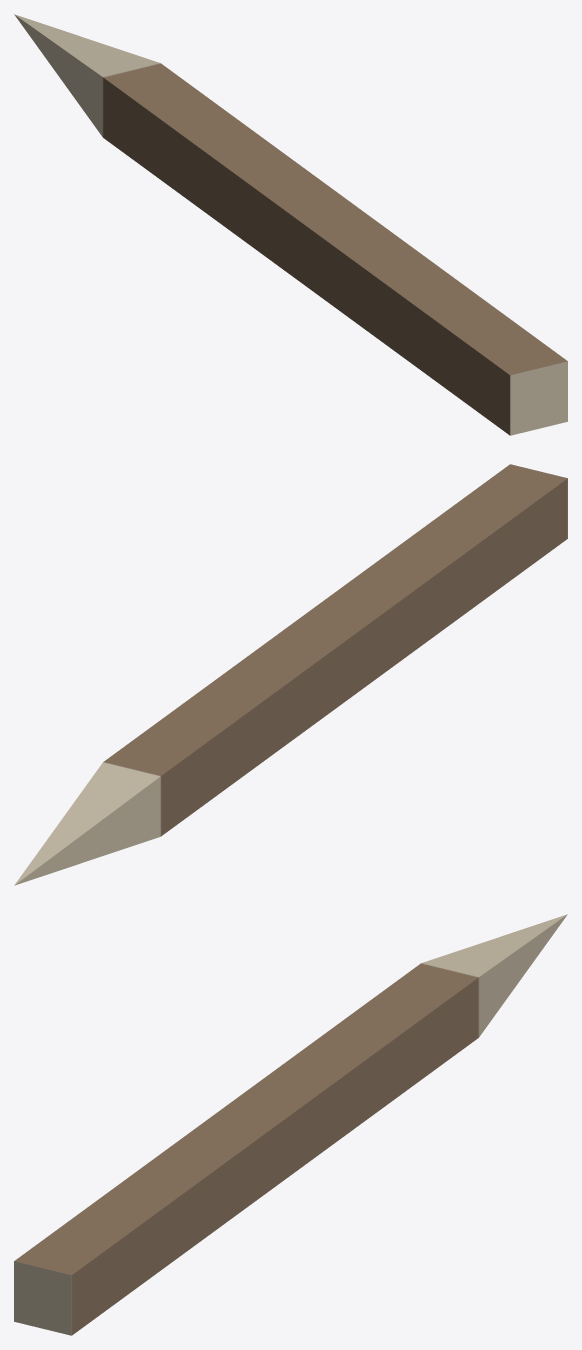
The model's file is javelin(regular).fbx.
The picture shows the model from 3 angles, top to bottom: view 1: azimuth 30°, elevation 25°; view 2: azimuth 150°, elevation 25°; view 3: azimuth 330°, elevation 25°; orthographic projection.
Visible parts, largest first — view 1: javelin; view 2: javelin; view 3: javelin.
Boxes of the visible parts, x1,y1,x2,y2 form: javelin: [14, 14, 567, 435]; javelin: [14, 464, 567, 885]; javelin: [14, 914, 567, 1335].
Size of the model in its own units: 6.92 by 6.92 by 109.
Materials: 1 (1 with a texture image).
